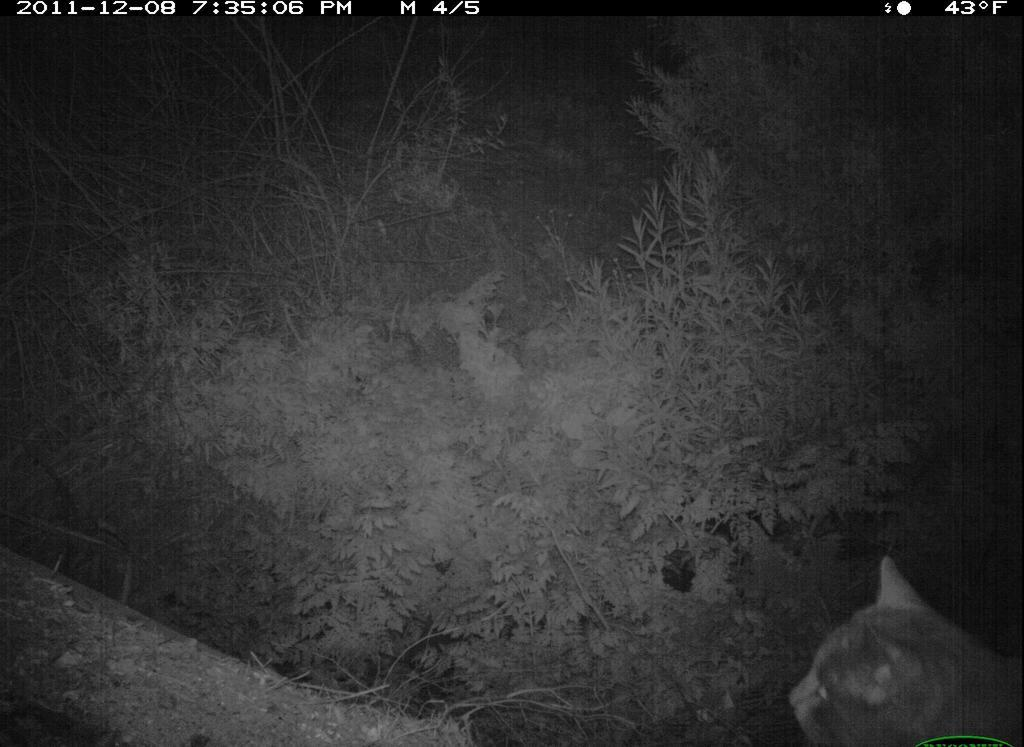cat: (785, 553, 1021, 745)
